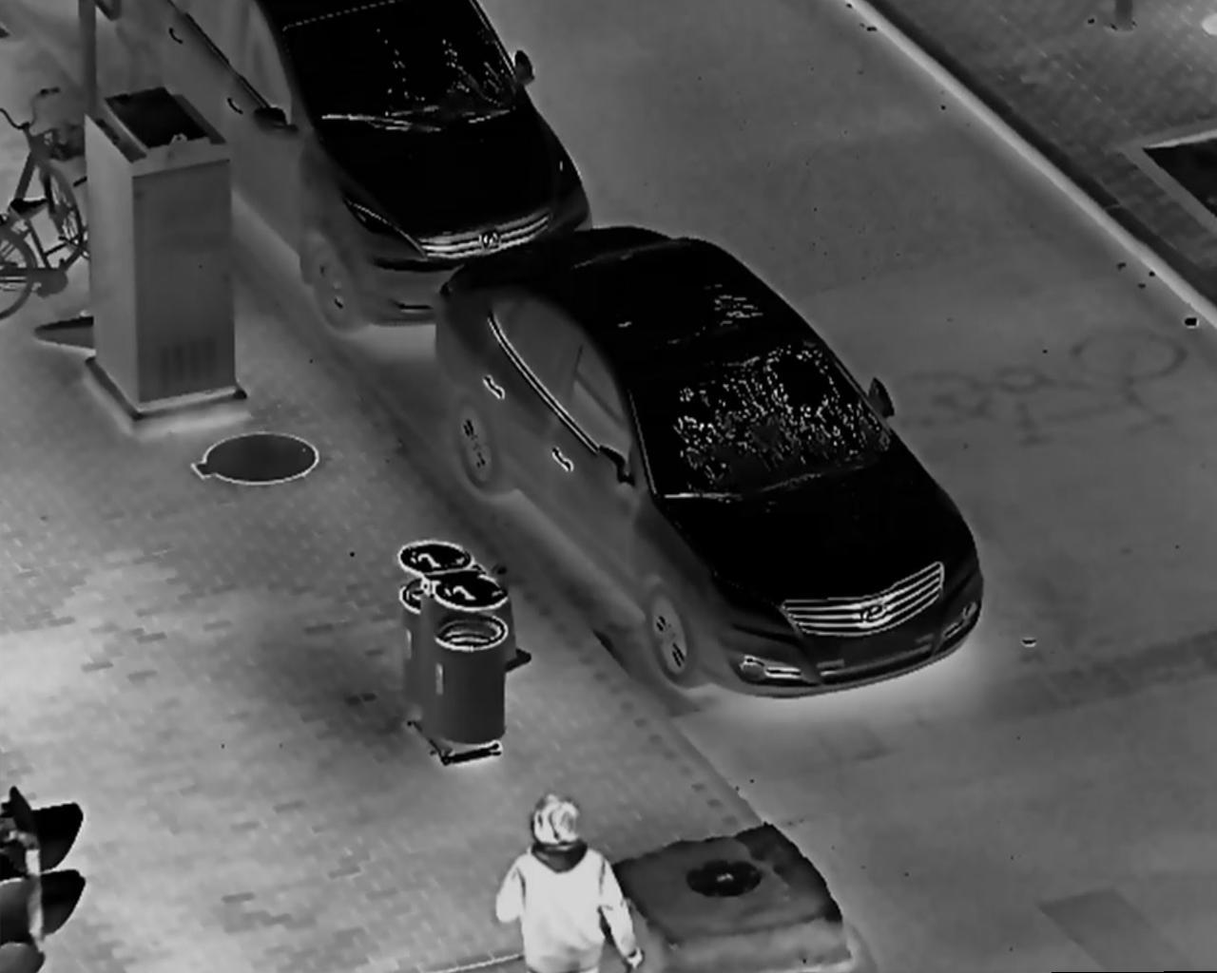person: (486, 785, 647, 973)
